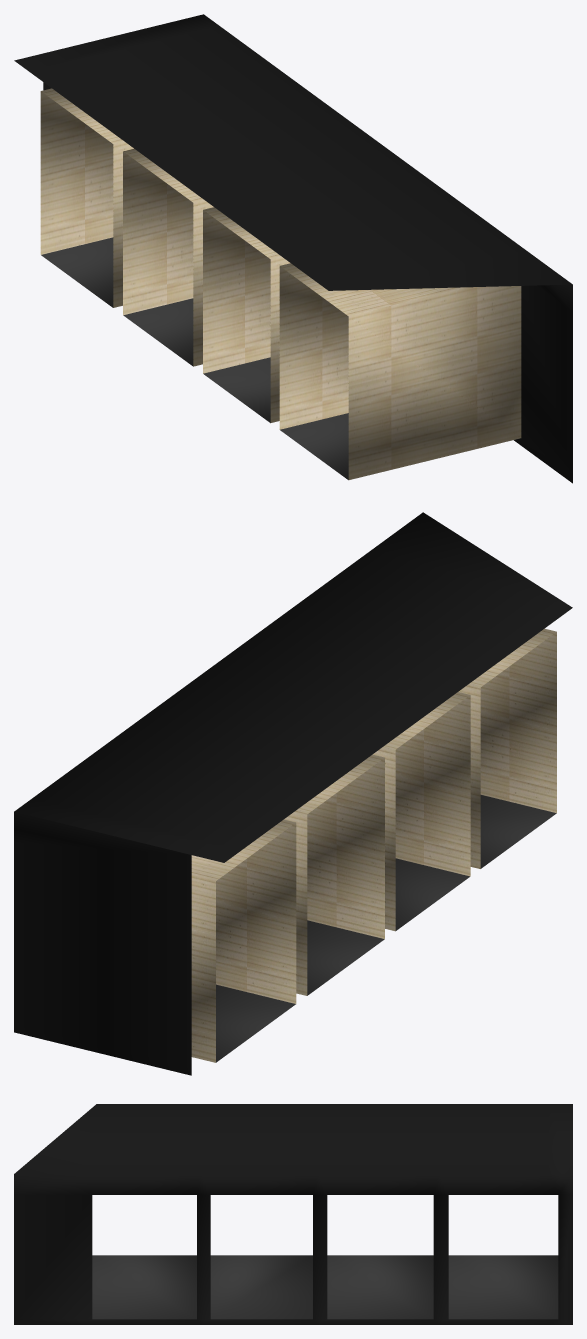
Rendered from TELLUS_arena_booths.FBX.
The picture shows the model from 3 angles, top to bottom: view 1: azimuth 30°, elevation 25°; view 2: azimuth 150°, elevation 25°; view 3: azimuth 270°, elevation 25°; orthographic projection. The views are drawn at different scales.
Parts seen in each view (by area): view 1: TELLUS_arena_booths; view 2: TELLUS_arena_booths; view 3: TELLUS_arena_booths.
Boxes of the visible parts, <box> form: TELLUS_arena_booths: <box>14,14,572,483</box>; TELLUS_arena_booths: <box>14,512,572,1075</box>; TELLUS_arena_booths: <box>14,1104,572,1324</box>.
Bounding box in the file's own units: 237 × 798 × 238.
